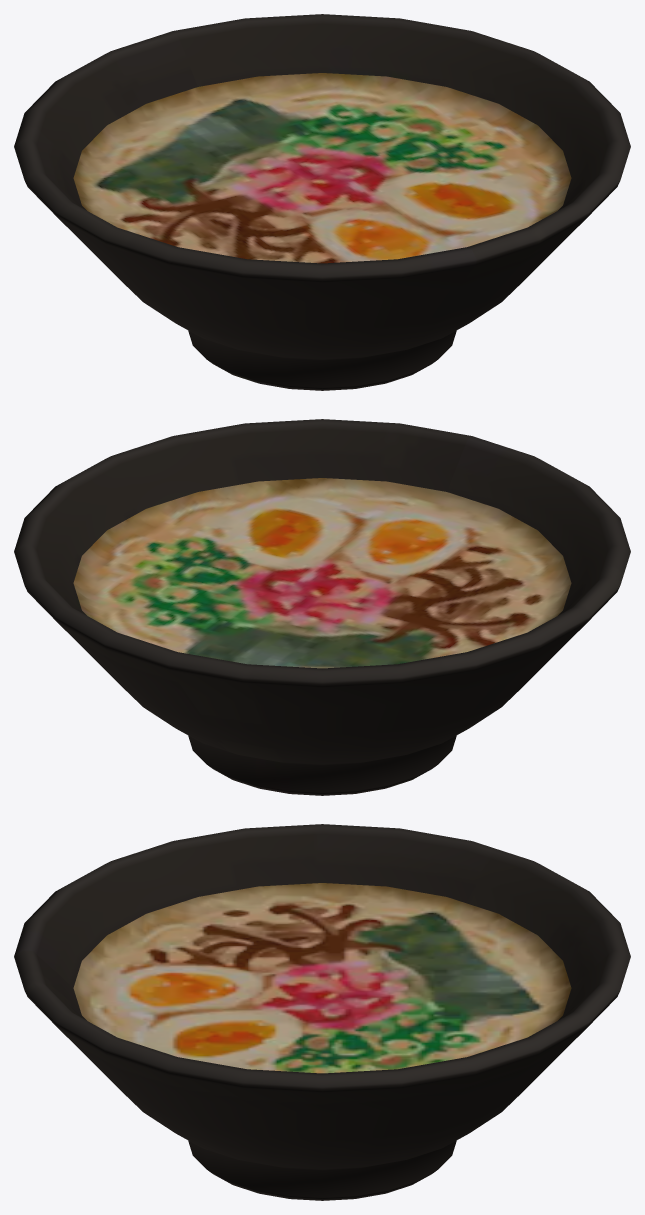
3 renders of one model, top to bottom at view 1: azimuth 30°, elevation 25°; view 2: azimuth 150°, elevation 25°; view 3: azimuth 270°, elevation 25°, orthographic.
Bounding box in the file's own units: 7.64 × 2.69 × 7.64.
1 material, 1 textured.
